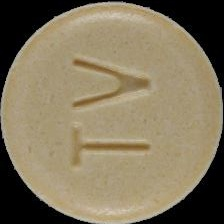0093-7581: (0, 0, 224, 224)
